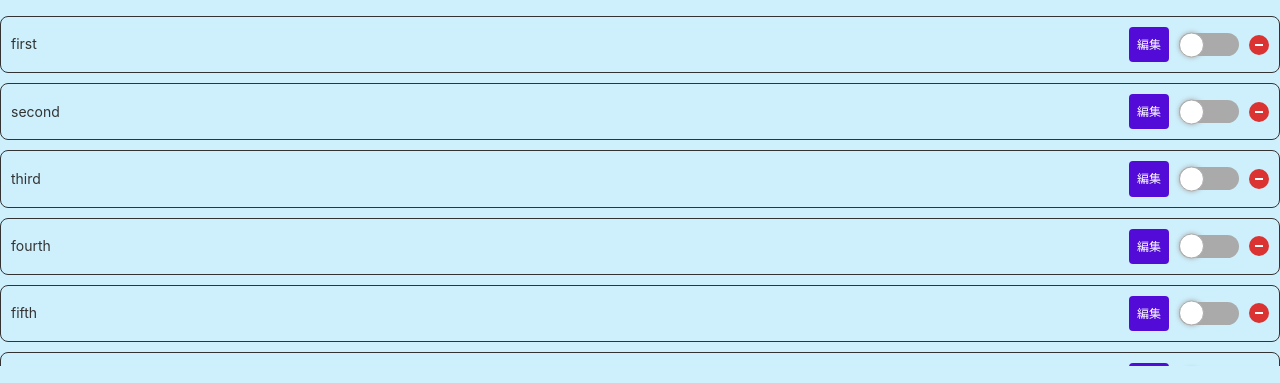
Test: TodoList › 削除イベントテスト
Click the button named "delete" in the row of "first" at (1259, 45), box [1249,35,1269,55]
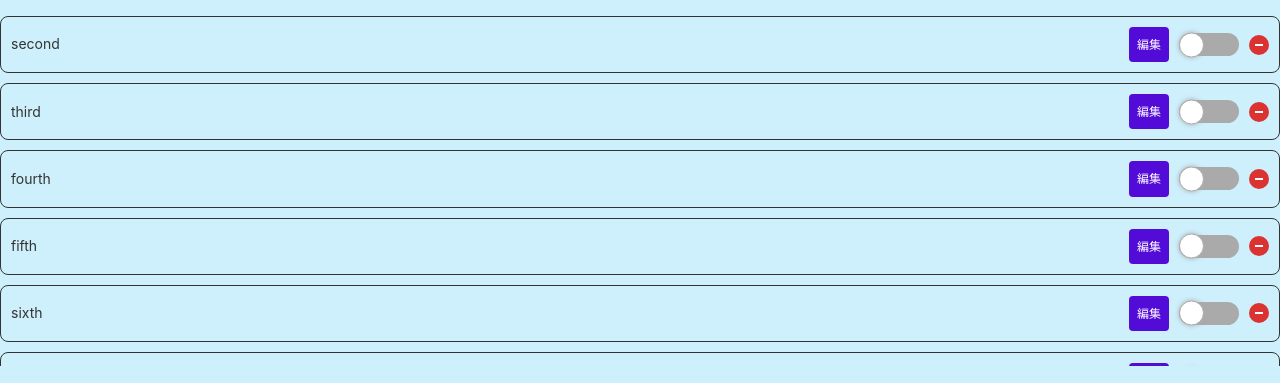
Check: the text "first" is gone
